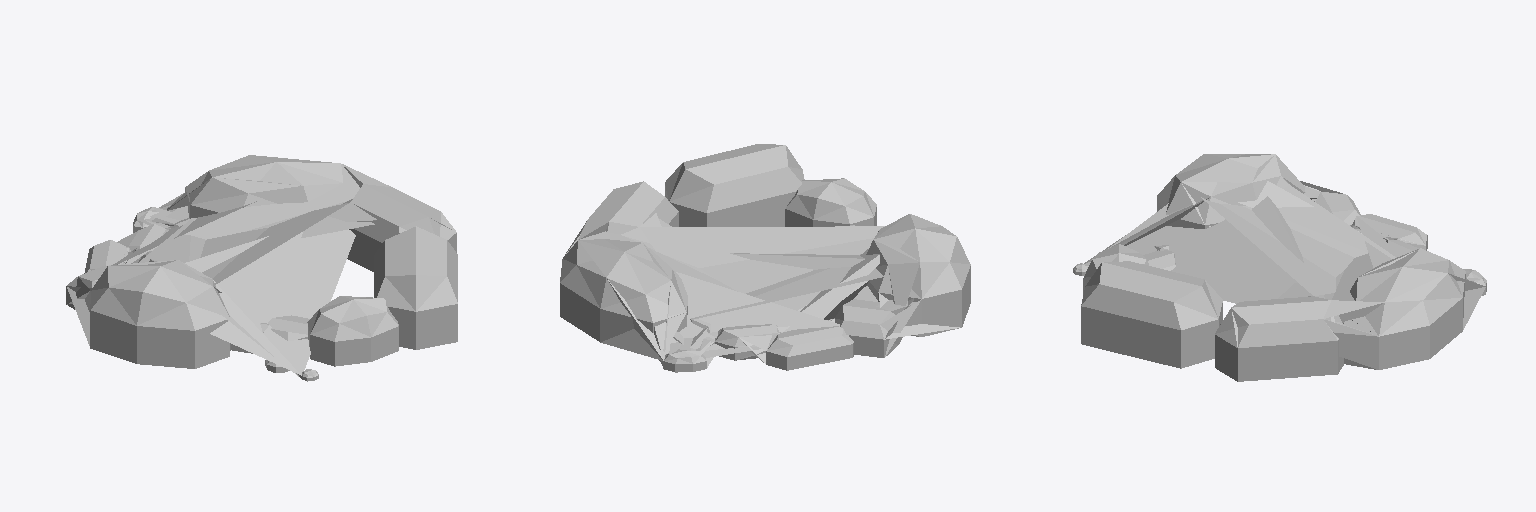
The model's file is SPINES.obj.
The picture shows the model from 3 angles: view 1: azimuth 30°, elevation 25°; view 2: azimuth 150°, elevation 25°; view 3: azimuth 270°, elevation 25°; orthographic projection.
Visible parts, largest first — view 1: Rocks, Plant, Pins; view 2: Rocks, Plant, Pins; view 3: Rocks, Plant, Pins.
Boxes of the visible parts, <box> form: Rocks: <box>66,155,457,381</box>; Plant: <box>67,155,451,378</box>; Pins: <box>159,184,426,225</box>; Rocks: <box>560,144,970,372</box>; Plant: <box>560,213,970,370</box>; Pins: <box>565,182,687,360</box>; Rocks: <box>1073,154,1486,381</box>; Plant: <box>1084,154,1485,357</box>; Pins: <box>1231,273,1485,381</box>.
Bounding box in the file's own units: 39.41 × 8.01 × 39.24.